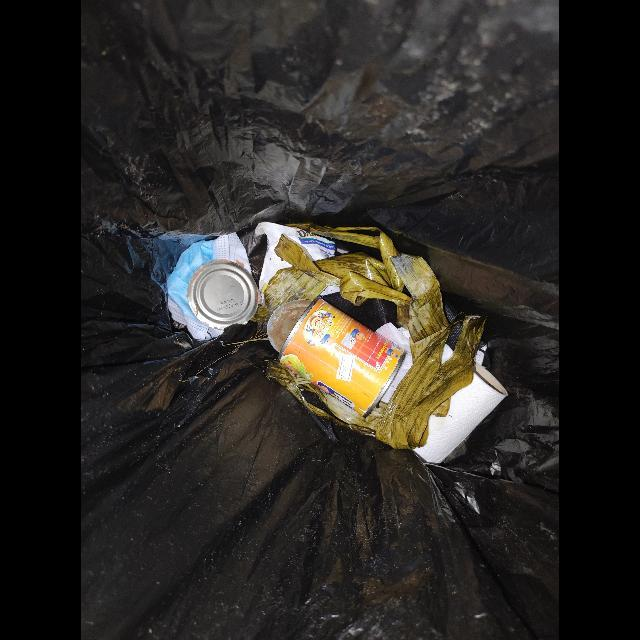biowaste: (267, 254, 489, 451)
metal: (267, 299, 407, 418), (187, 259, 259, 330)
